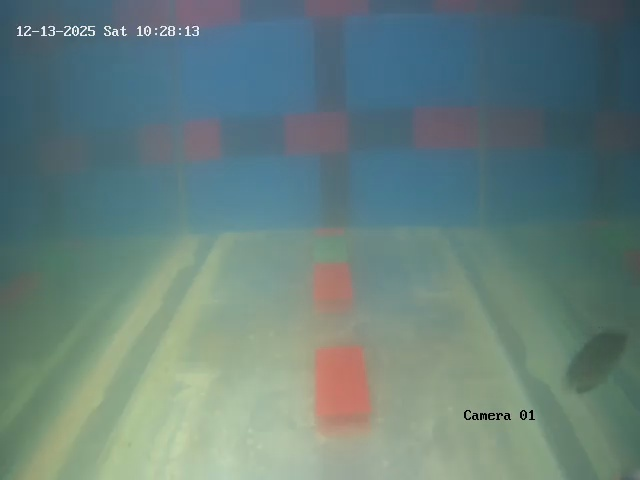fish: (568, 321, 630, 394)
